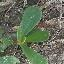Purslane: (0, 2, 61, 64)
